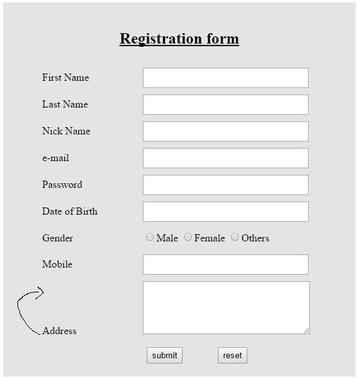button: (146, 346, 184, 365), (217, 346, 247, 363)
field: (141, 280, 311, 336), (140, 253, 309, 275), (142, 67, 310, 89), (141, 93, 309, 115), (141, 147, 309, 169), (141, 174, 309, 196), (141, 200, 309, 222), (140, 121, 310, 142)
field_with_label: (41, 119, 312, 144), (42, 65, 312, 90), (41, 145, 311, 170), (42, 199, 311, 224), (41, 92, 311, 116), (41, 173, 311, 197), (42, 252, 311, 276)
radio: (183, 230, 195, 243), (145, 231, 156, 243), (231, 231, 242, 242)
radio_with_label: (181, 228, 226, 245), (230, 229, 271, 245), (143, 228, 177, 245)
